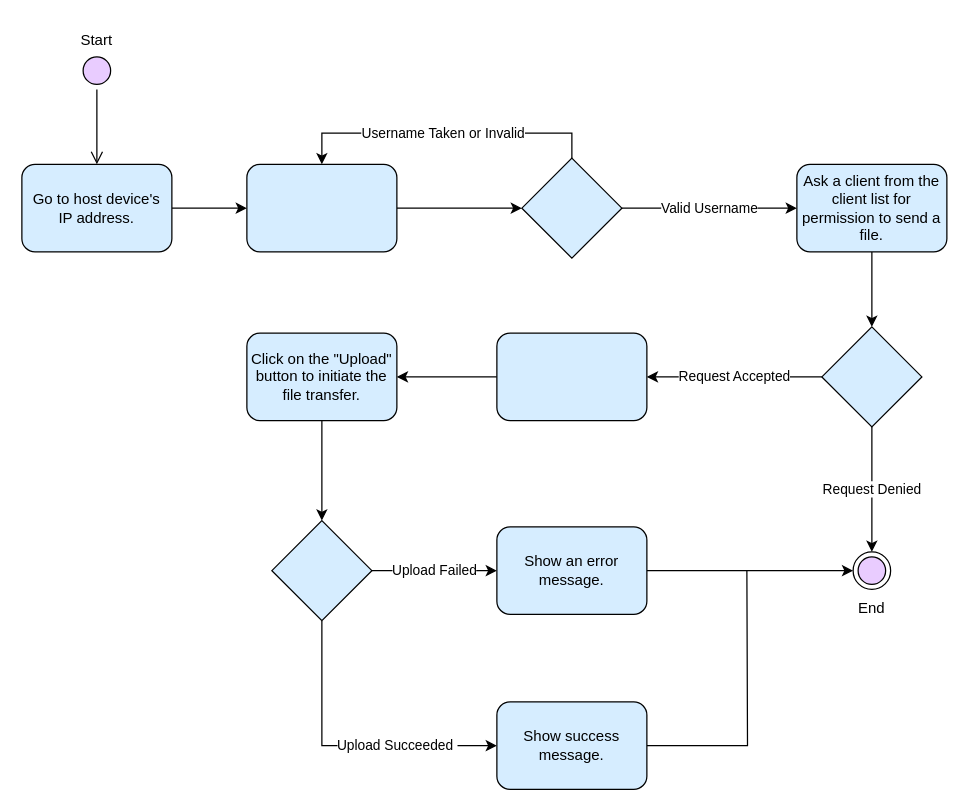
Image size: 969x811. Some labels were removed from this diagram. The centre of each missing label's shape, as x and y in pixels:
Choose a file to send to the other client.: (x=571, y=376)
Type in a username or click on the "Random" button to generate one.: (x=321, y=207)
